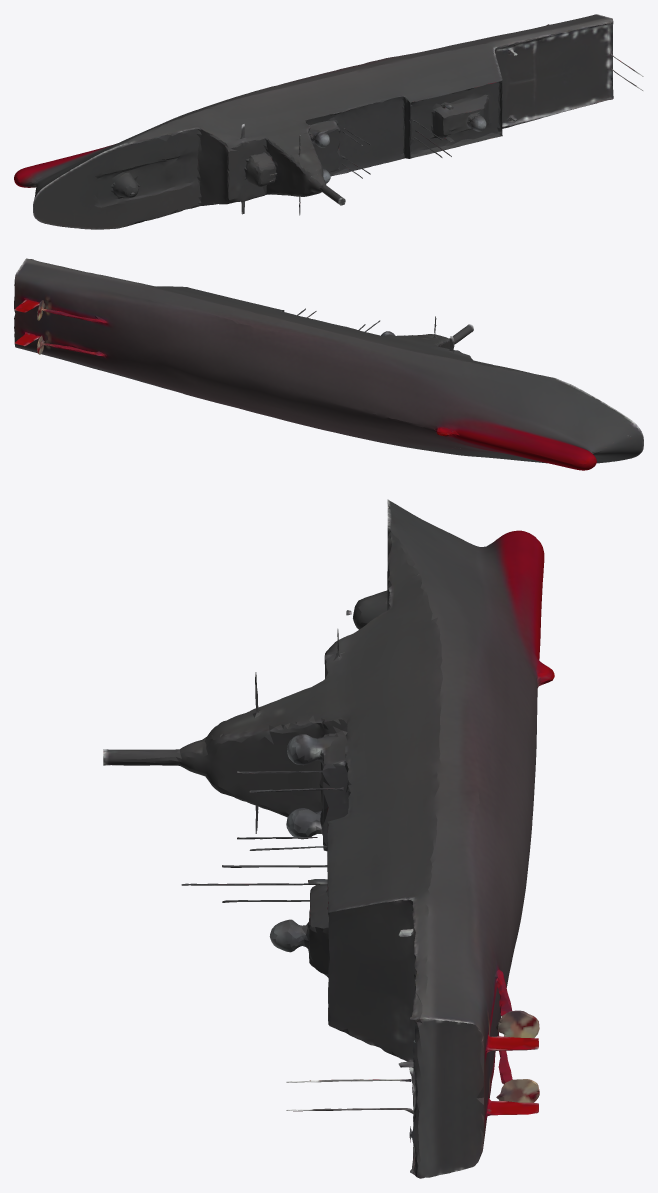
Rendered from Mogami_30FFM_Frigate_AI_Rodin.glb.
3 renders of one model, top to bottom at view 1: azimuth 30°, elevation 25°; view 2: azimuth 150°, elevation 25°; view 3: azimuth 270°, elevation 25°, orthographic. The views are drawn at different scales.
Parts seen in each view (by area): view 1: Mogami_30FFM_Frigate; view 2: Mogami_30FFM_Frigate; view 3: Mogami_30FFM_Frigate.
Boxes of the visible parts, x1,y1,x2,y2 form: Mogami_30FFM_Frigate: (14, 14, 643, 229); Mogami_30FFM_Frigate: (14, 258, 643, 470); Mogami_30FFM_Frigate: (103, 499, 554, 1178).
Size of the model in its own units: 1.9 by 0.2846 by 0.6315.
1 material, 1 textured.
